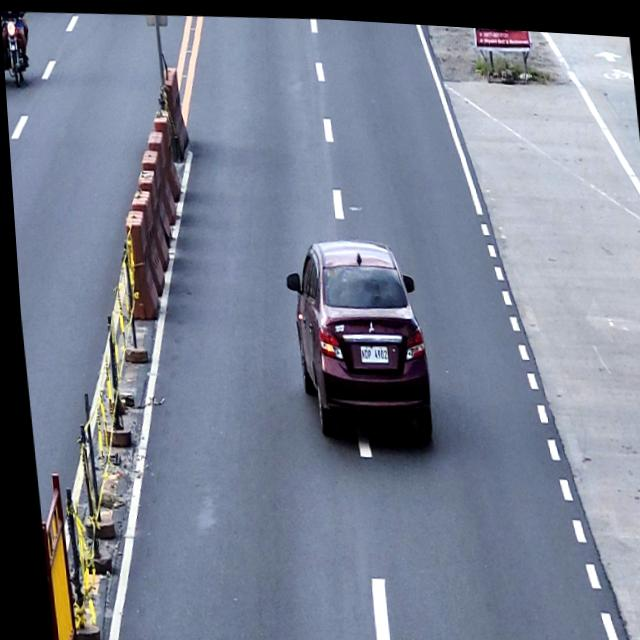Car: (278, 229, 430, 439)
License-Plate: (353, 336, 385, 361)
Tricycle: (1, 10, 33, 88)
